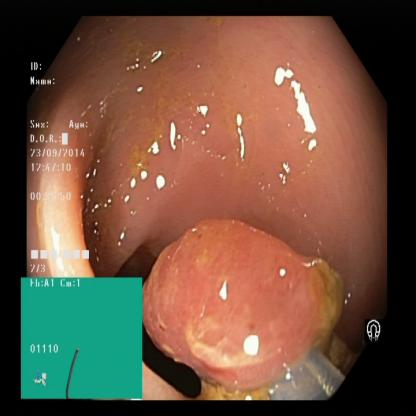Labels: (29, 56, 104, 276), (23, 276, 135, 398), (366, 305, 396, 371)
Polyps: (156, 236, 332, 376)
